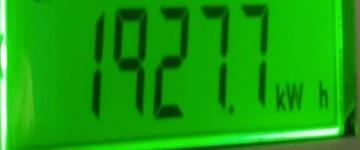.: (273, 79, 333, 110)
0: (227, 104, 239, 117)
2: (89, 11, 108, 117)
3: (151, 6, 190, 120)
8: (196, 3, 231, 110), (239, 4, 272, 107)
:: (111, 6, 148, 118)
